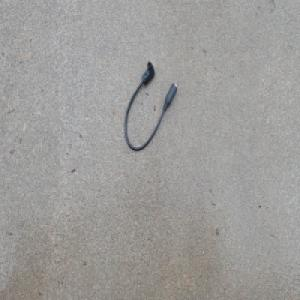Wire: (123, 60, 177, 152)
